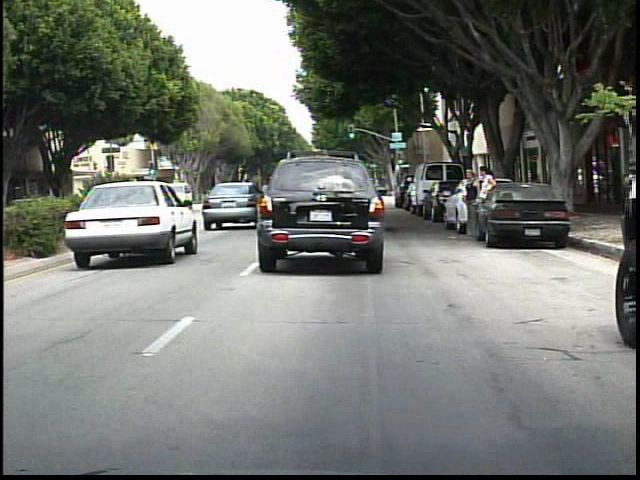person: (477, 163, 499, 236), (462, 168, 484, 240)
